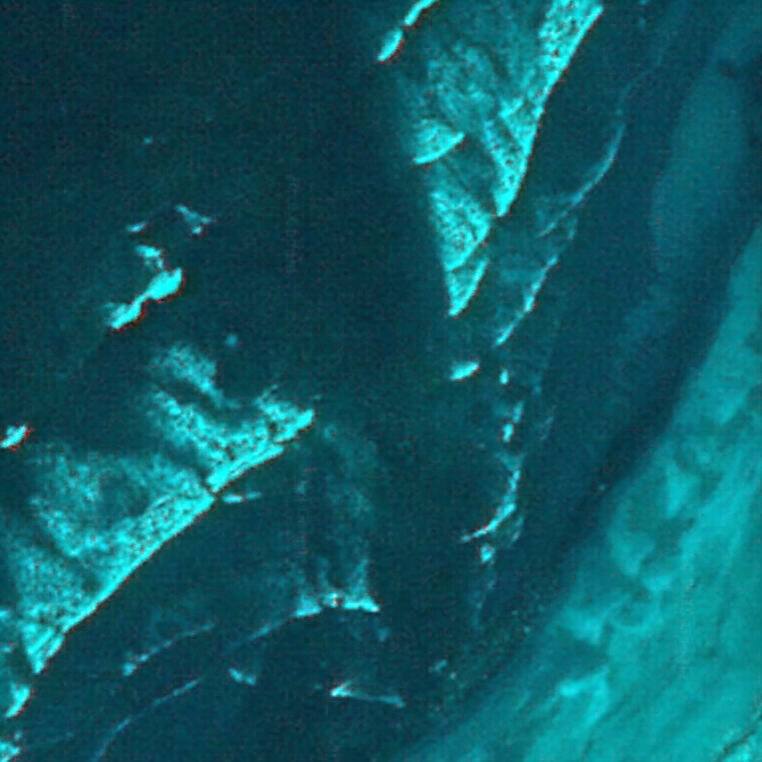rip_current: (124, 40, 506, 659)
